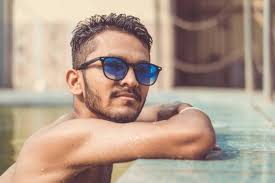Indian_Male: (72, 13, 154, 116)
